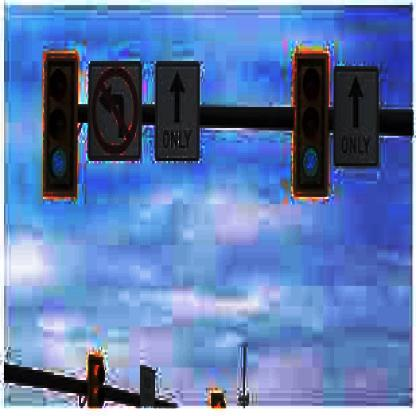No left turn: (88, 62, 138, 158)
